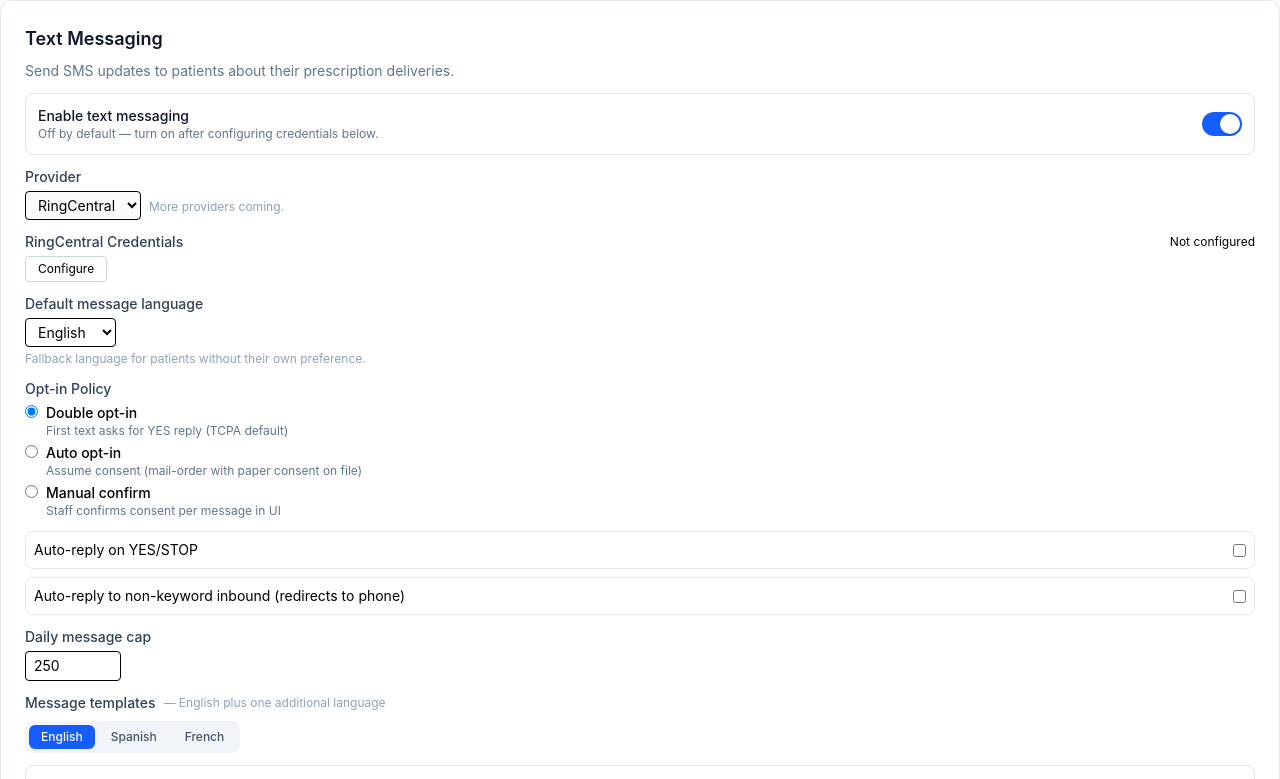
<TextMessagingSection /> template editor › selecting the second language shows a second input per template row
Click the button "Spanish" at (134, 737), box [99,725,169,749]
(page scrolled)
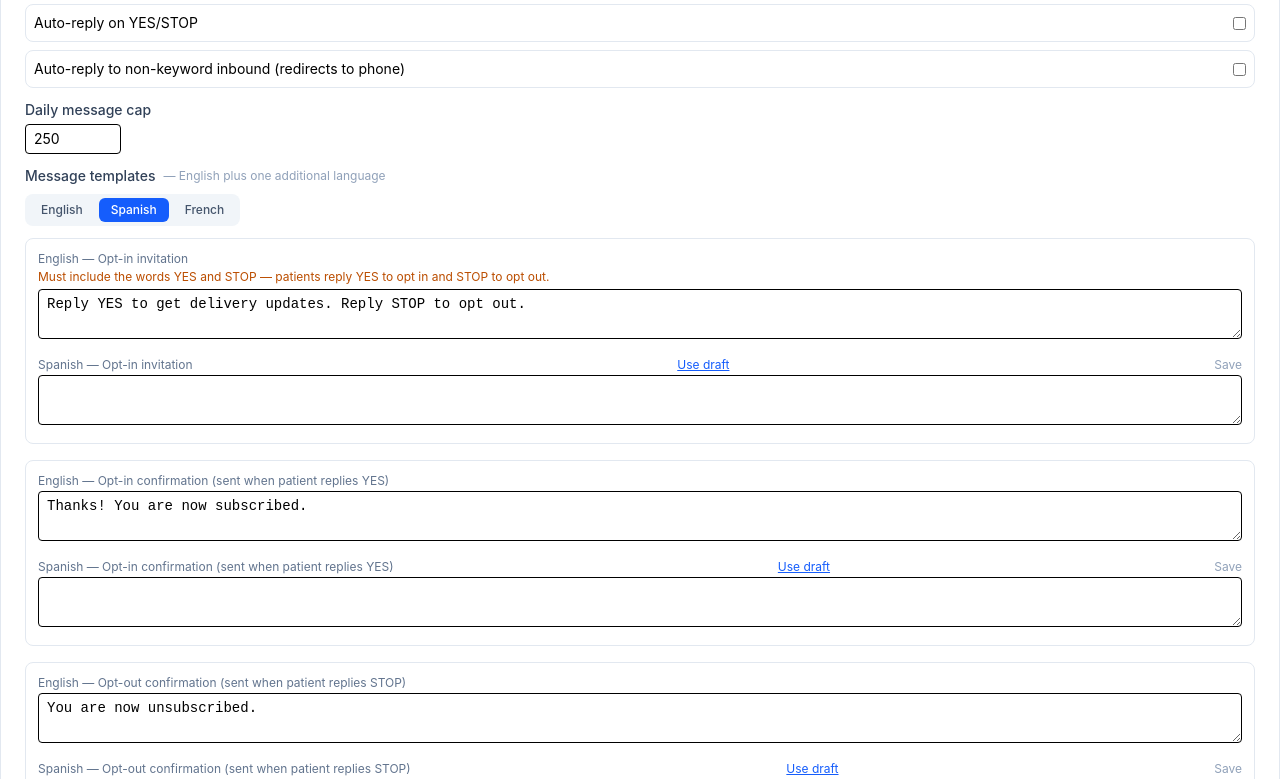
Expected: the text box showing "Reply YES to get delivery updates. Reply STOP to opt out." below "English — Opt-in invitation" is shown, [38,289,1242,339]
Expected: the text box named "Spanish — Opt-in invitation" is shown, [38,375,1242,425]
